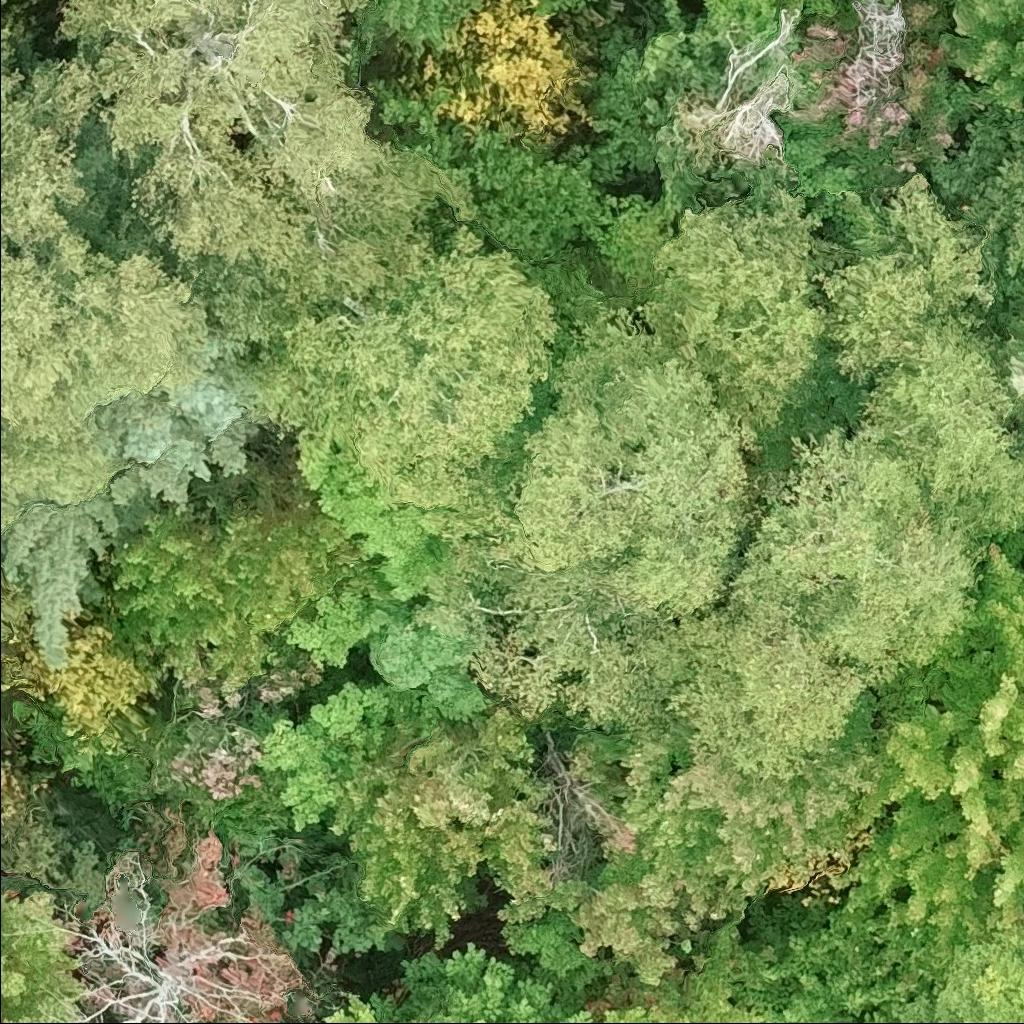crown: (51, 0, 443, 348), (248, 221, 571, 600), (0, 317, 266, 674), (483, 292, 766, 619), (833, 543, 1023, 1001), (727, 423, 991, 692), (600, 694, 892, 933), (323, 702, 588, 952), (0, 224, 213, 531), (105, 506, 396, 693), (637, 186, 855, 430), (772, 0, 985, 222), (814, 173, 1000, 389), (662, 601, 879, 782), (858, 309, 1023, 543), (467, 558, 687, 733), (139, 633, 325, 839), (499, 864, 710, 1013), (420, 0, 630, 148), (256, 676, 448, 835), (0, 0, 101, 267), (295, 431, 445, 600), (586, 923, 792, 1023), (759, 902, 928, 1023), (360, 595, 498, 722), (395, 941, 568, 1023), (0, 880, 92, 1023), (278, 876, 406, 957), (927, 919, 1023, 1023), (939, 0, 1023, 115), (964, 145, 1023, 303), (341, 0, 484, 64), (275, 586, 371, 672), (930, 121, 1017, 205), (985, 295, 1023, 447), (697, 0, 836, 21), (0, 573, 31, 649), (323, 990, 381, 1023), (549, 1002, 597, 1023), (539, 0, 592, 11), (3, 1013, 42, 1023), (660, 0, 679, 8), (1, 0, 24, 3), (474, 1019, 489, 1023), (460, 1019, 469, 1023)
